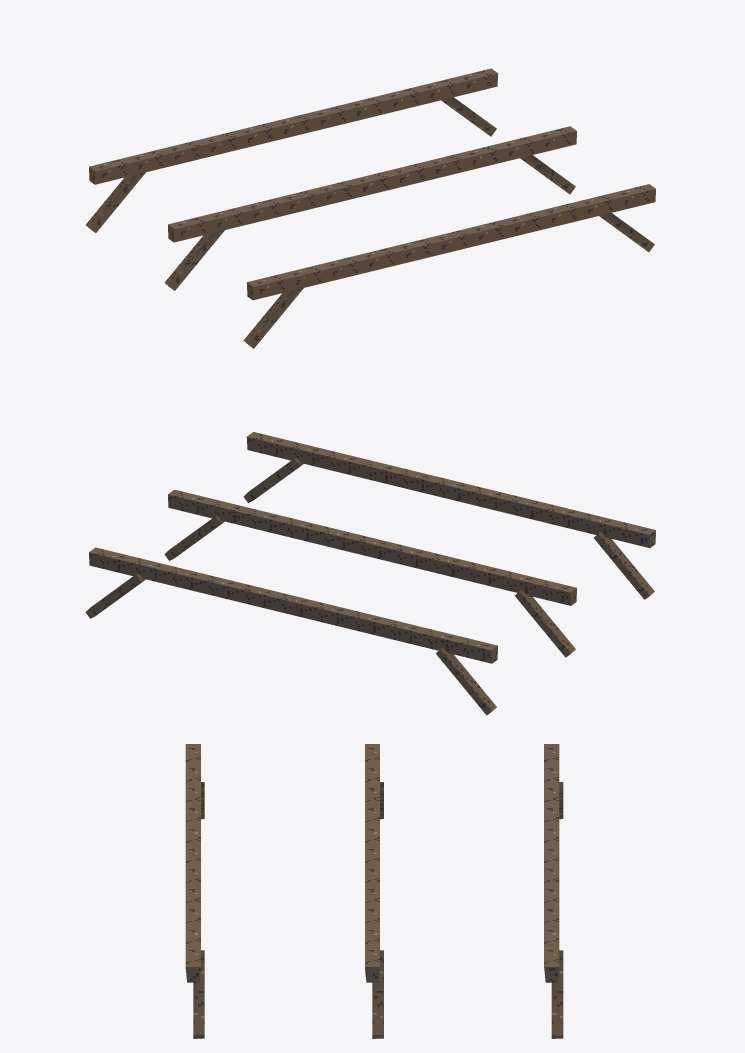
File: cst.ceiling.glb
3 views of the same model, one above another, from view 1: azimuth 30°, elevation 25°; view 2: azimuth 150°, elevation 25°; view 3: azimuth 270°, elevation 25° (orthographic). The views are drawn at different scales.
Parts seen in each view (by area): view 1: kit_ribs; view 2: kit_ribs; view 3: kit_ribs.
Part boxes in pixels (x1,y1,x2,y2): kit_ribs: (86, 68, 655, 348); kit_ribs: (85, 432, 655, 715); kit_ribs: (185, 744, 563, 1038).
Size of the model in its own units: 11.16 by 1.71 by 15.
Materials: 2 (2 with a texture image).
